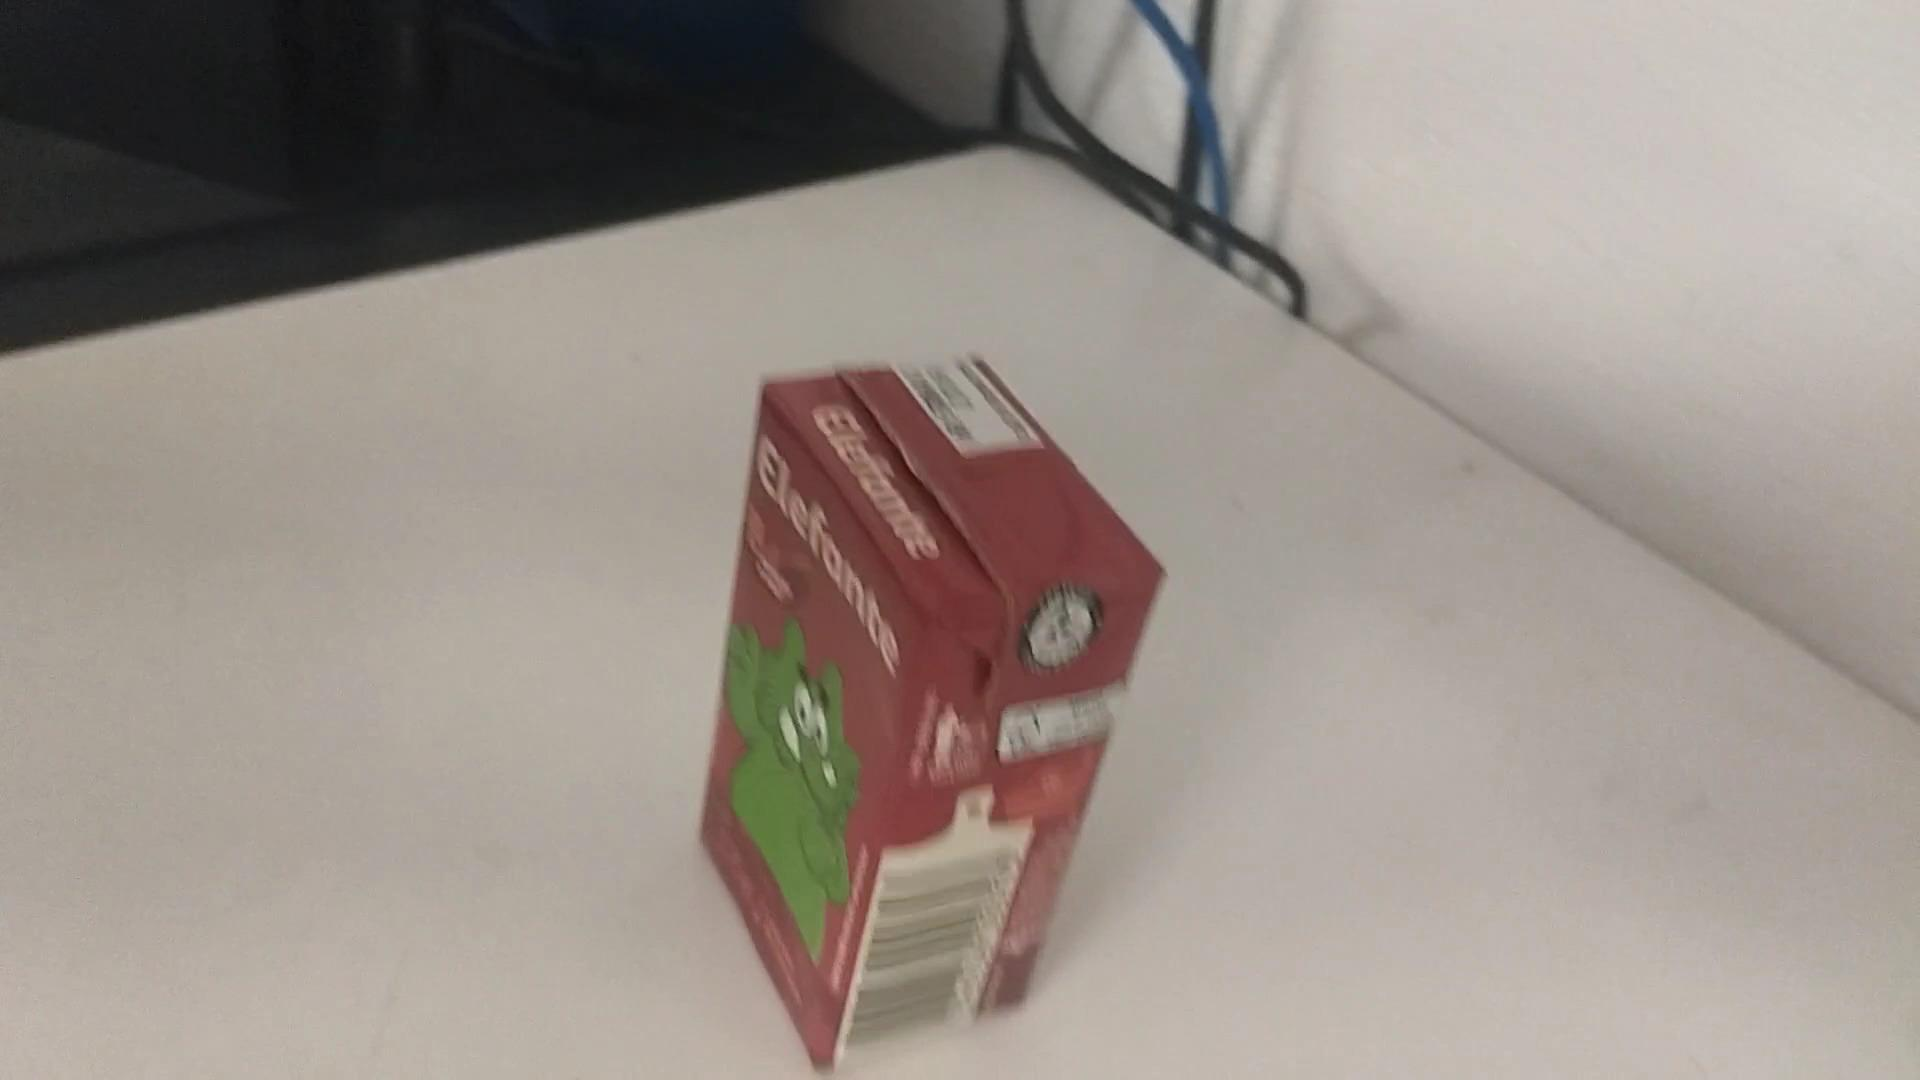tomate: (686, 331, 1180, 1065)
